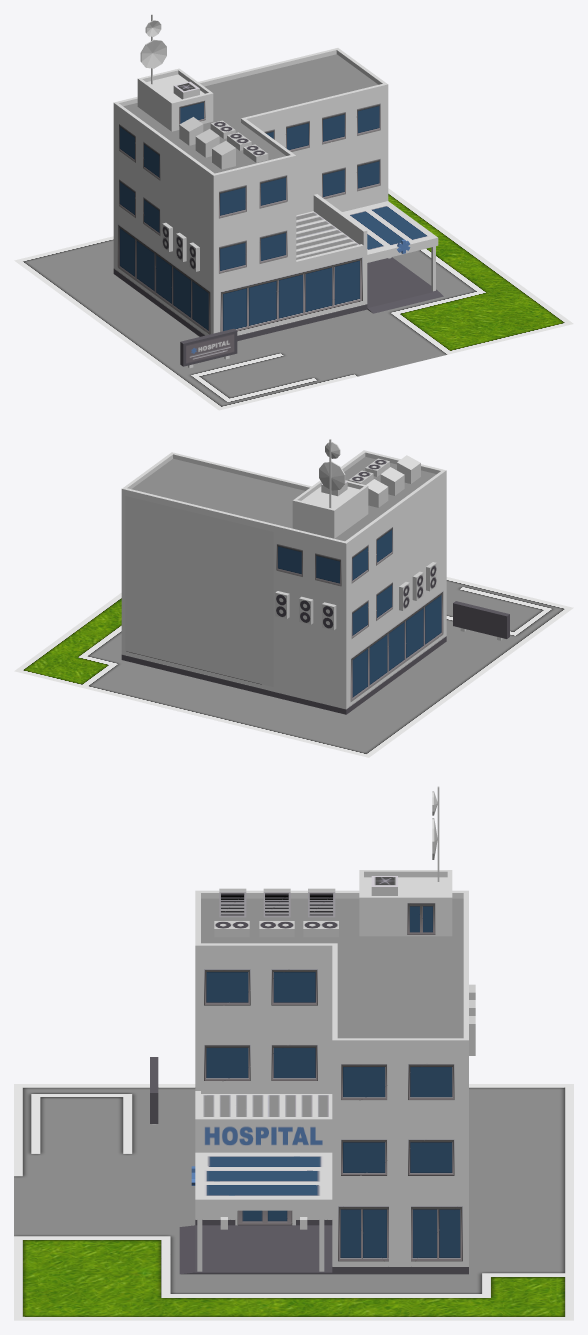
The model's file is Hospital_Lvl_4.fbx.
The picture shows the model from 3 angles, top to bottom: view 1: azimuth 30°, elevation 25°; view 2: azimuth 150°, elevation 25°; view 3: azimuth 270°, elevation 25°; orthographic projection. The views are drawn at different scales.
Parts seen in each view (by area): view 1: Hospital_LVL_4, Hospital_BG; view 2: Hospital_LVL_4, Hospital_BG, Graffiti_001; view 3: Hospital_LVL_4, Hospital_BG.
Boxes of the visible parts, x1,y1,x2,y2 form: Hospital_LVL_4: (113, 14, 443, 368); Hospital_BG: (14, 188, 573, 410); Hospital_LVL_4: (121, 439, 509, 714); Hospital_BG: (14, 577, 573, 757); Graffiti_001: (125, 496, 273, 686); Hospital_LVL_4: (150, 786, 475, 1274); Hospital_BG: (14, 1084, 573, 1320).
Size of the model in its own units: 2000 by 1403 by 2000.
